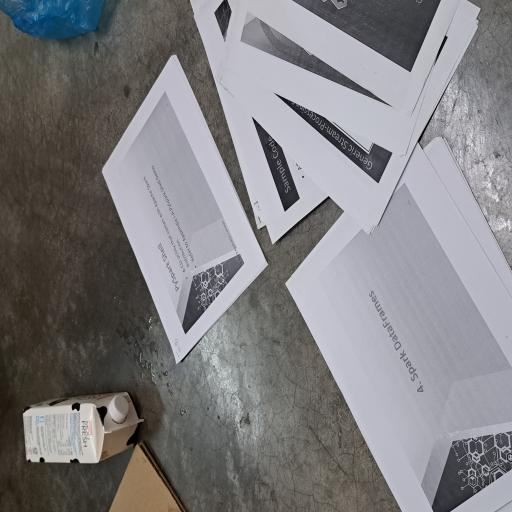cardboard: (0, 141, 53, 246)
drink carton: (35, 27, 91, 191)
paper: (116, 133, 344, 359), (203, 251, 384, 512), (0, 380, 282, 512)
plastic bottle cap: (69, 140, 89, 176)
